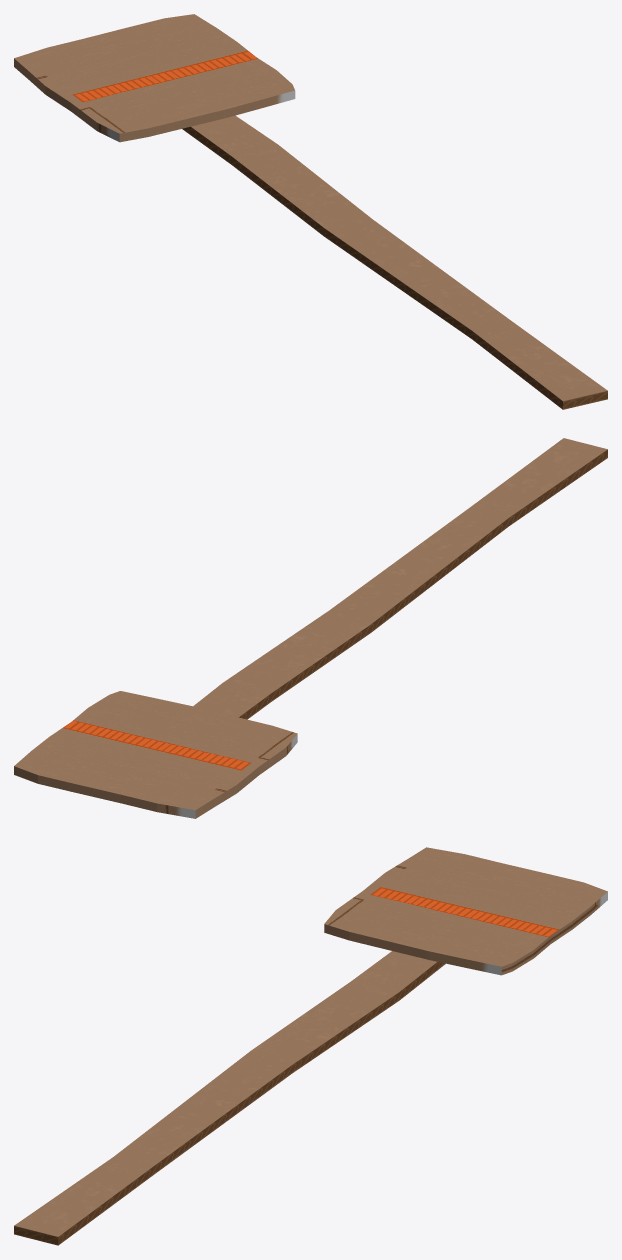
The model's file is Cuadrado.fbx.
3 renders of one model, top to bottom at view 1: azimuth 30°, elevation 25°; view 2: azimuth 150°, elevation 25°; view 3: azimuth 330°, elevation 25°, orthographic.
Visible parts, largest first — view 1: Cuadrado, Palo; view 2: Cuadrado, Palo; view 3: Cuadrado, Palo.
Part boxes in pixels (x1,y1,x2,y2): Cuadrado: (14,14,295,142); Palo: (182,115,607,409); Cuadrado: (14,691,297,818); Palo: (193,438,607,719); Cuadrado: (324,847,607,975); Palo: (14,951,445,1245).
Bounding box in the file's own units: 459 × 40.02 × 2027.
